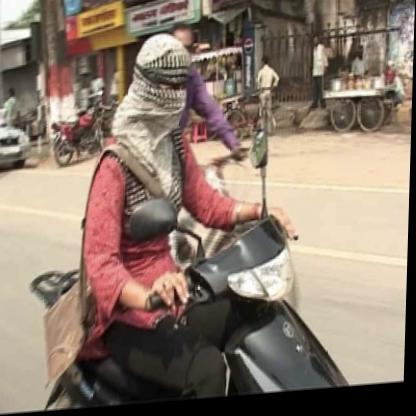With Helmet: (124, 27, 200, 151)
